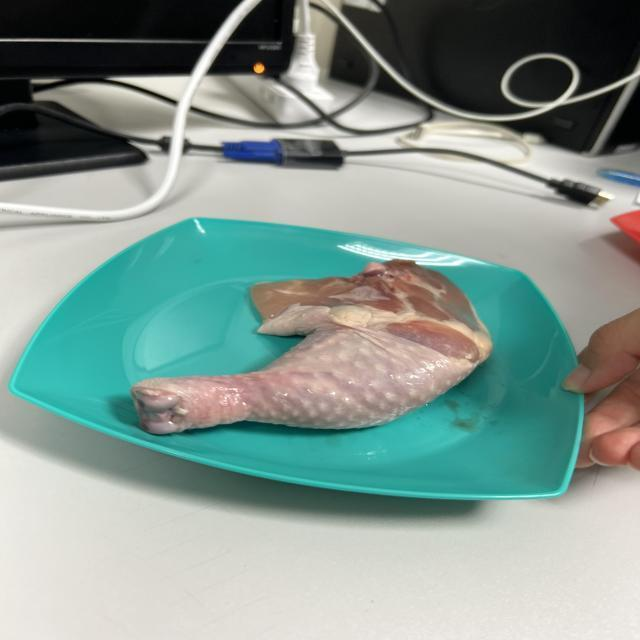quater: (118, 256, 504, 433)
